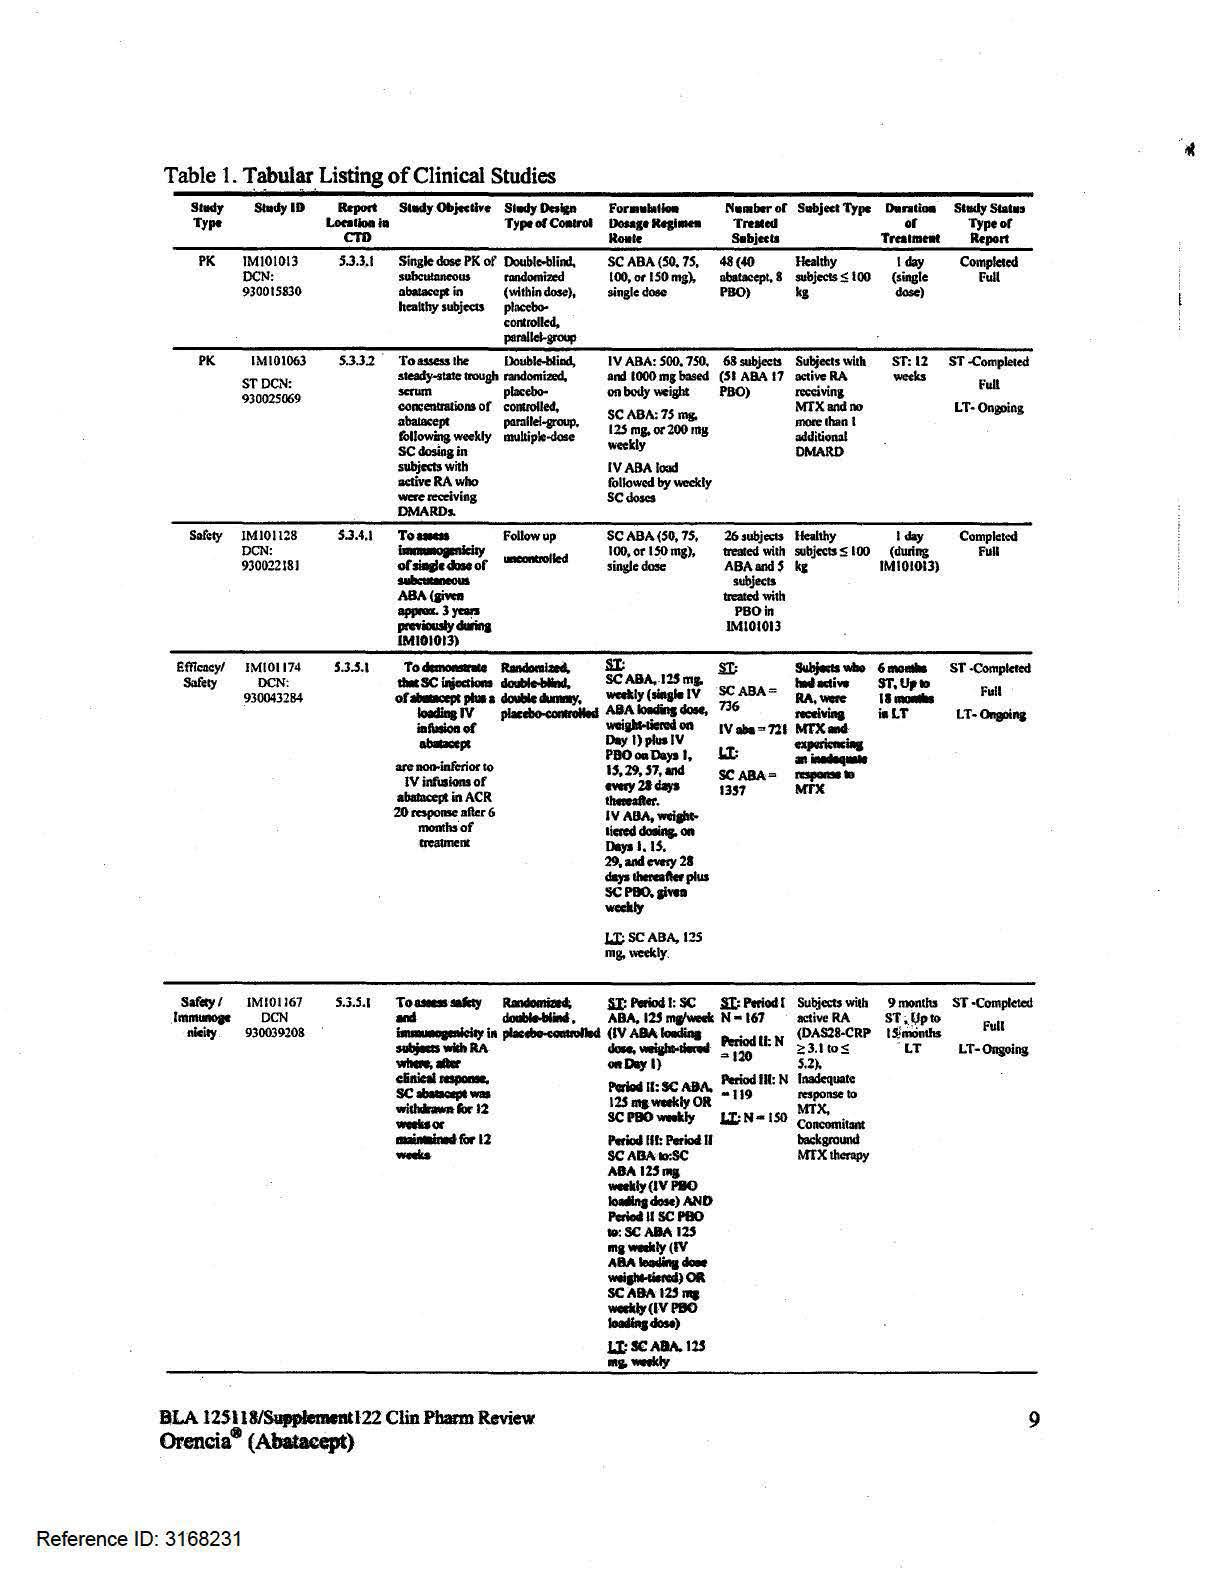partial_lined: (163, 189, 1038, 1380)
